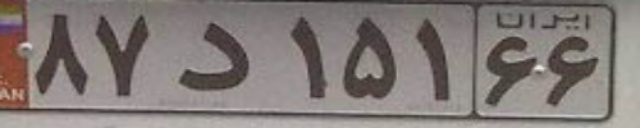1: (410, 18, 451, 100), (287, 18, 327, 97)
5: (340, 17, 402, 97)
6: (543, 35, 598, 107), (479, 36, 536, 105)
7: (95, 11, 157, 97)
8: (37, 13, 87, 94)
dal: (179, 21, 254, 94)
